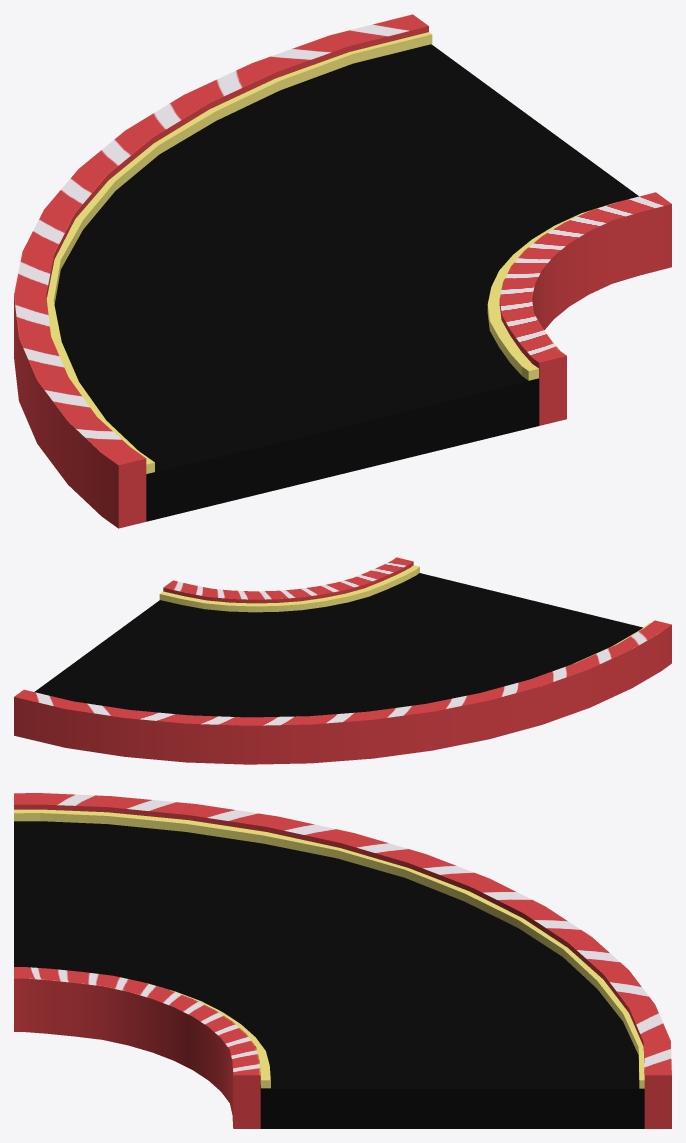
Rendered from Track - Curve (no direction).fbx.
3 views of the same model, one above another, from view 1: azimuth 30°, elevation 25°; view 2: azimuth 150°, elevation 25°; view 3: azimuth 270°, elevation 25° (orthographic). The views are drawn at different scales.
Parts seen in each view (by area): view 1: Track - Curve piece(textured); view 2: Track - Curve piece(textured); view 3: Track - Curve piece(textured).
Boxes of the visible parts, bbox=[...] form: Track - Curve piece(textured): bbox=[14, 14, 671, 528]; Track - Curve piece(textured): bbox=[14, 557, 671, 764]; Track - Curve piece(textured): bbox=[14, 793, 671, 1128].
Bounding box in the file's own units: 76.13 × 74.99 × 6.73.
